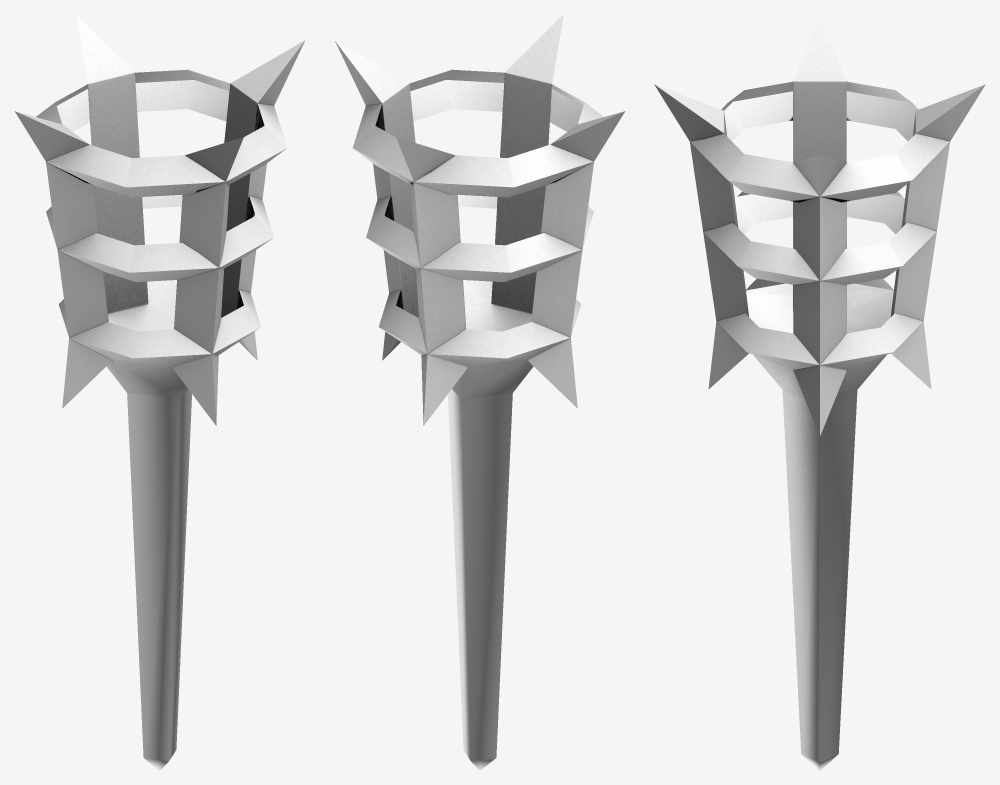
Rendered from wpTorch.FBX.
The picture shows the model from 3 angles, left to right: view 1: azimuth 30°, elevation 25°; view 2: azimuth 150°, elevation 25°; view 3: azimuth 270°, elevation 25°; orthographic projection.
Visible parts, largest first — view 1: wpTorch; view 2: wpTorch; view 3: wpTorch.
Part boxes in pixels (bbox=[...]): wpTorch: bbox=[14, 14, 304, 770]; wpTorch: bbox=[335, 14, 625, 770]; wpTorch: bbox=[654, 14, 985, 770].
Bounding box in the file's own units: 41.99 × 95.86 × 41.99.
Materials: 1 (1 with a texture image).
